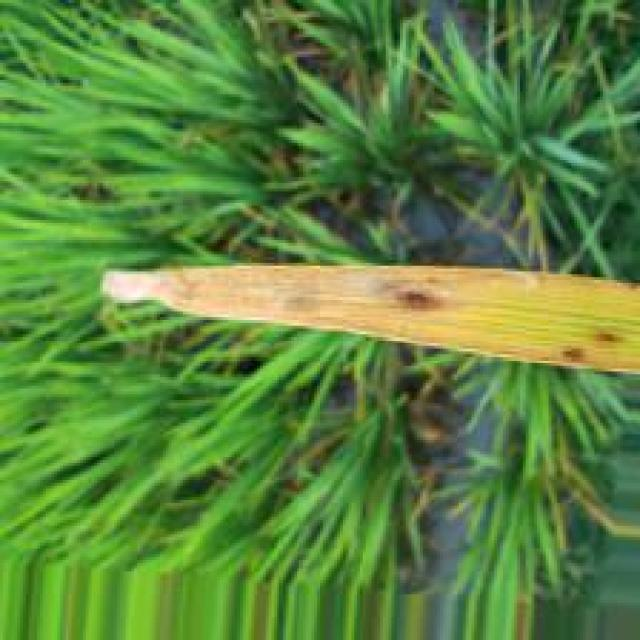Bacterial_Leaf_Blight: (102, 265, 640, 373), (591, 329, 617, 342)
